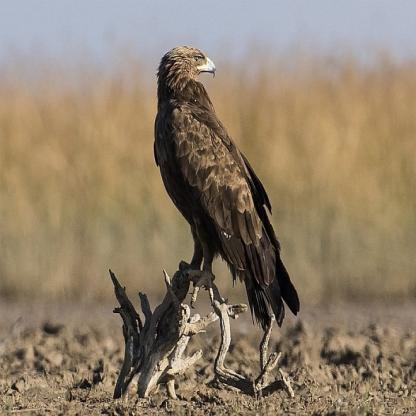Burung: (152, 43, 301, 329)
